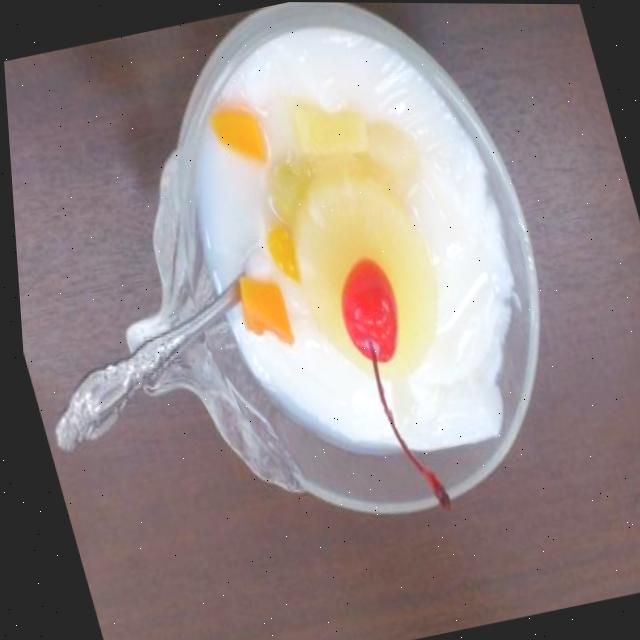面条主食: (1, 12, 640, 603)
